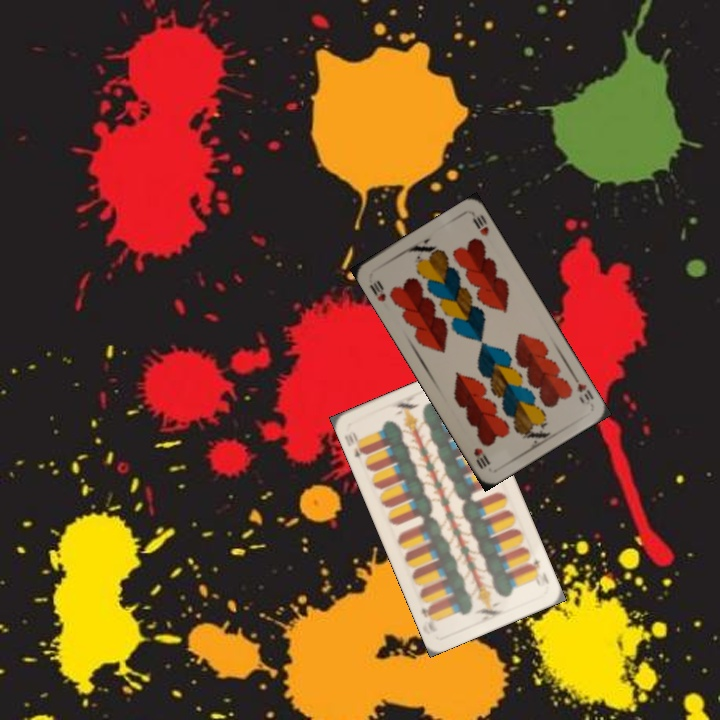E10: (340, 430, 369, 462), (524, 554, 544, 579)
H10: (568, 371, 596, 406), (365, 276, 388, 304)
